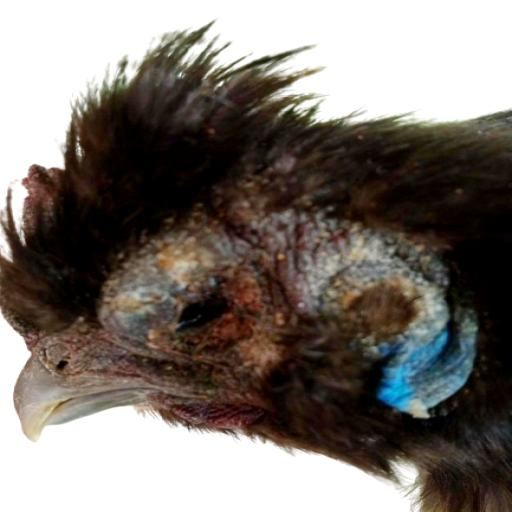disease: (82, 212, 284, 398), (279, 163, 459, 353)
